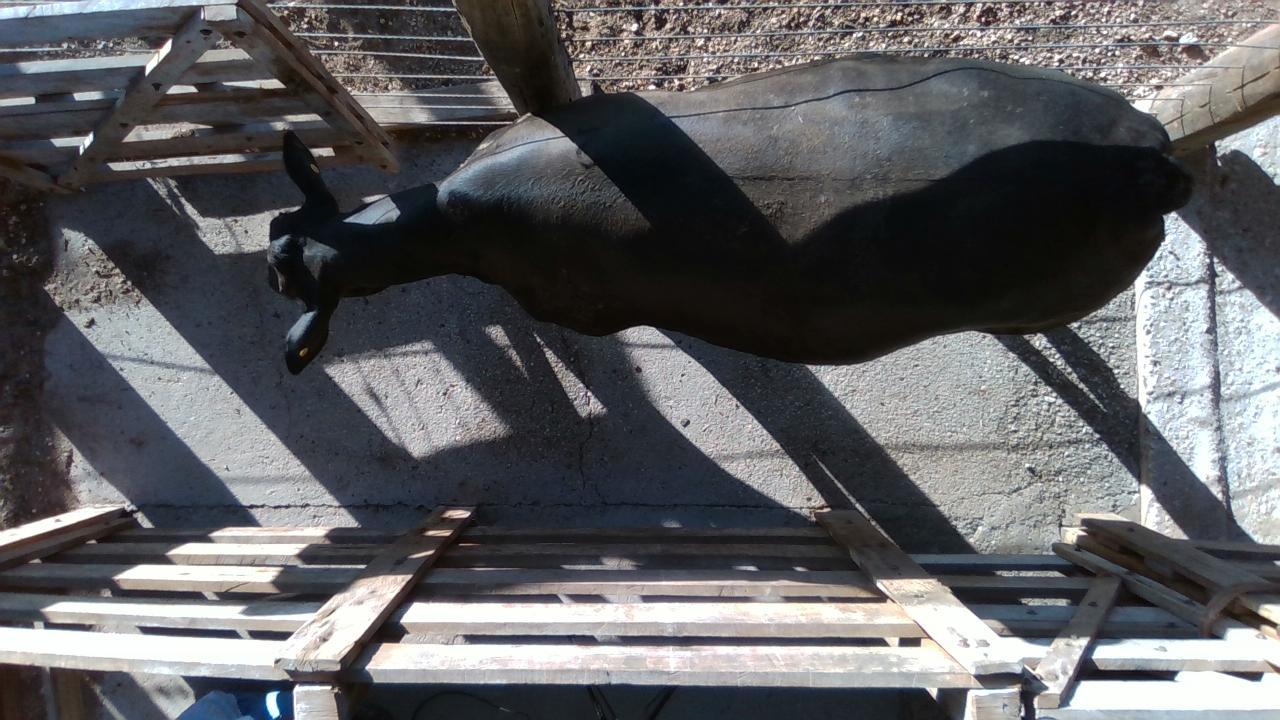cattle: (264, 53, 1194, 375)
